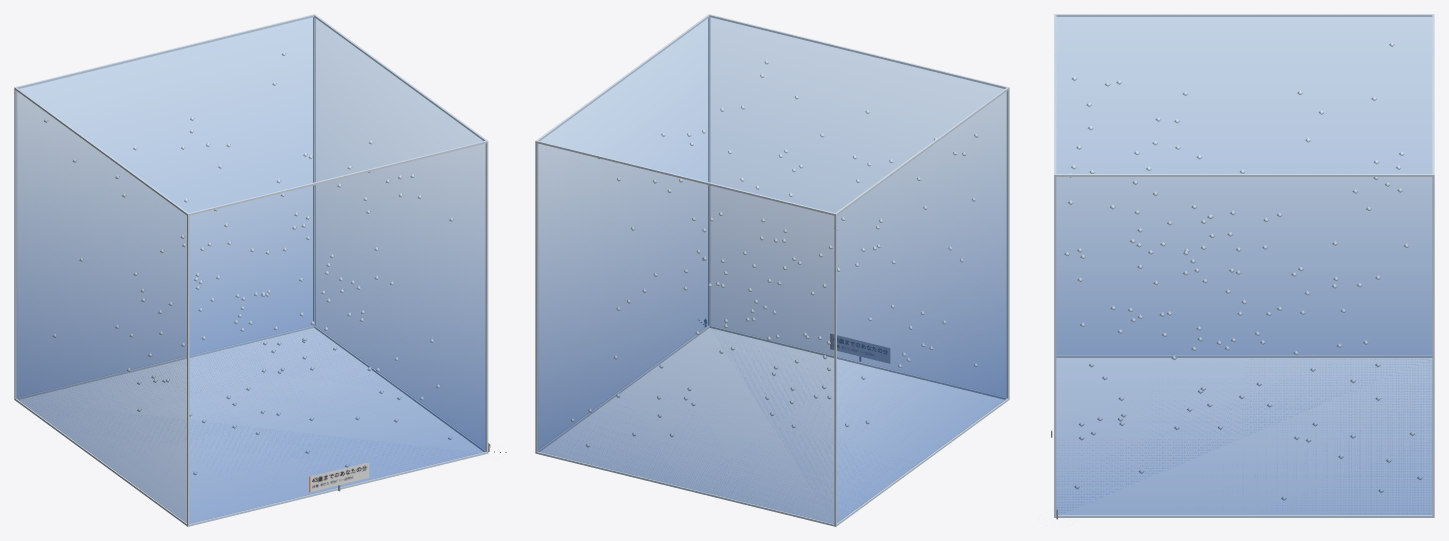
File: cube_life_43.glb
The picture shows the model from 3 angles, left to right: view 1: azimuth 30°, elevation 25°; view 2: azimuth 150°, elevation 25°; view 3: azimuth 270°, elevation 25°; orthographic projection. The views are drawn at different scales.
Visible parts, largest first — view 1: co2, edge, dots, label; view 2: co2, edge, dots, label; view 3: co2, edge, dots.
Part boxes in pixels (x1,y1,x2,y2): co2: [16, 15, 485, 523]; edge: [14, 14, 488, 526]; dots: [44, 52, 453, 475]; label: [309, 462, 369, 492]; co2: [538, 15, 1007, 523]; edge: [535, 14, 1009, 526]; dots: [570, 60, 978, 447]; label: [830, 334, 889, 363]; co2: [1055, 15, 1432, 514]; edge: [1054, 14, 1434, 517]; dots: [1064, 42, 1422, 500].
Bounding box in the file's own units: 63.5 × 59.76 × 62.6.
8 materials, 3 textured.
